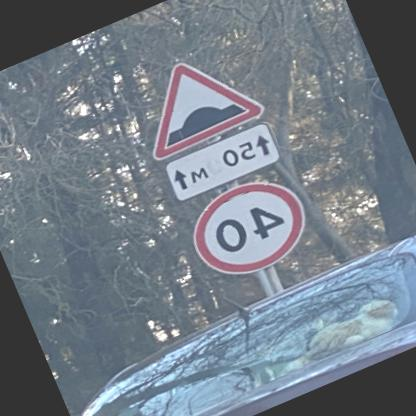speedlimit: (182, 161, 323, 287)
